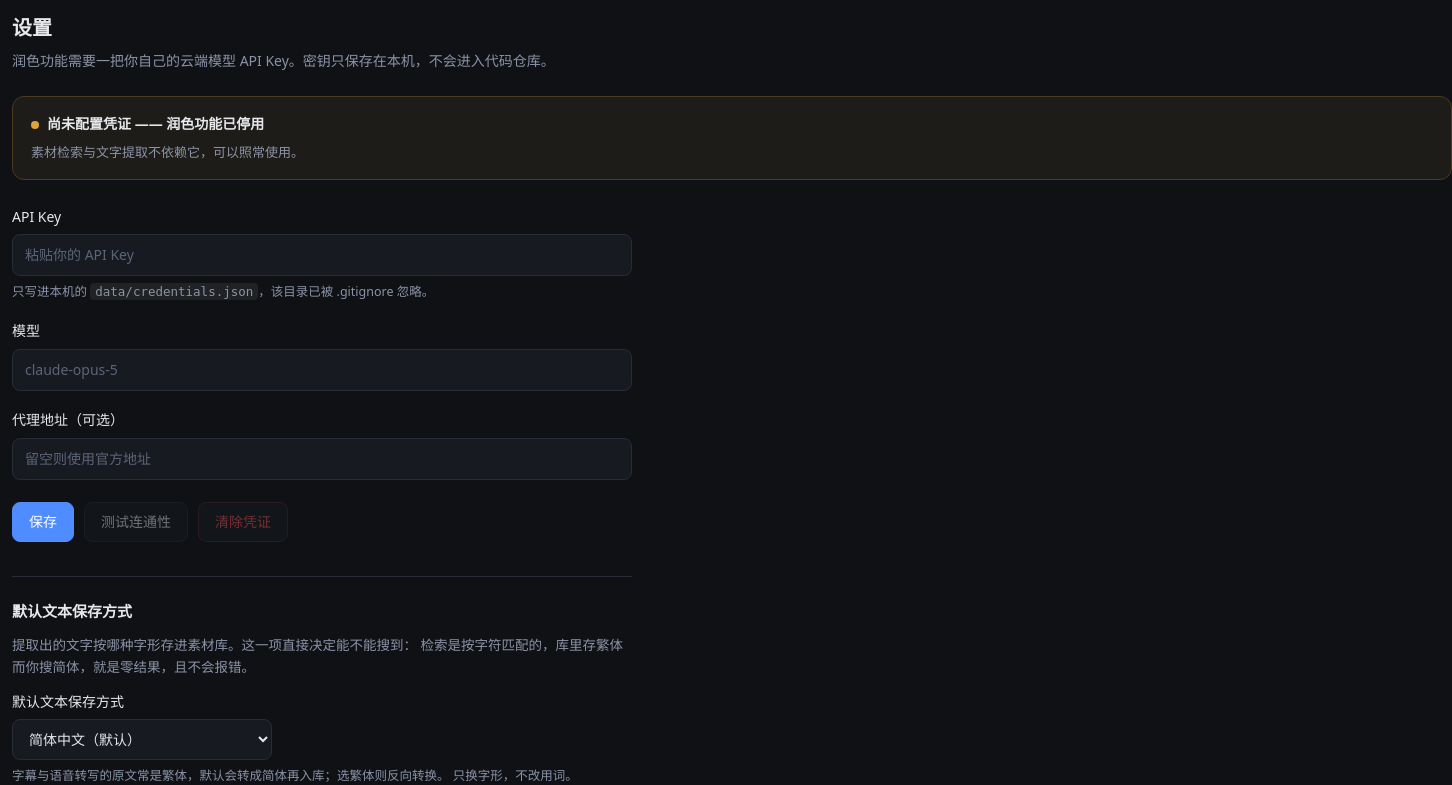
Test: 填写并保存后 › 回显只有末四位，页面上不出现完整密钥
Expected: the text "尚未配置凭证 —— 润色功能已停用" is shown, [31,114,264,133]
In the password field labelled "API Key 只写进本机的 data/credentials.json，该目录已被 .gitignore 忽略。": (322, 255) [12,234,632,276], type "sk-ant-api03-AbCdEfGhIjKlMnOpQrStUvWxYz0123456789"
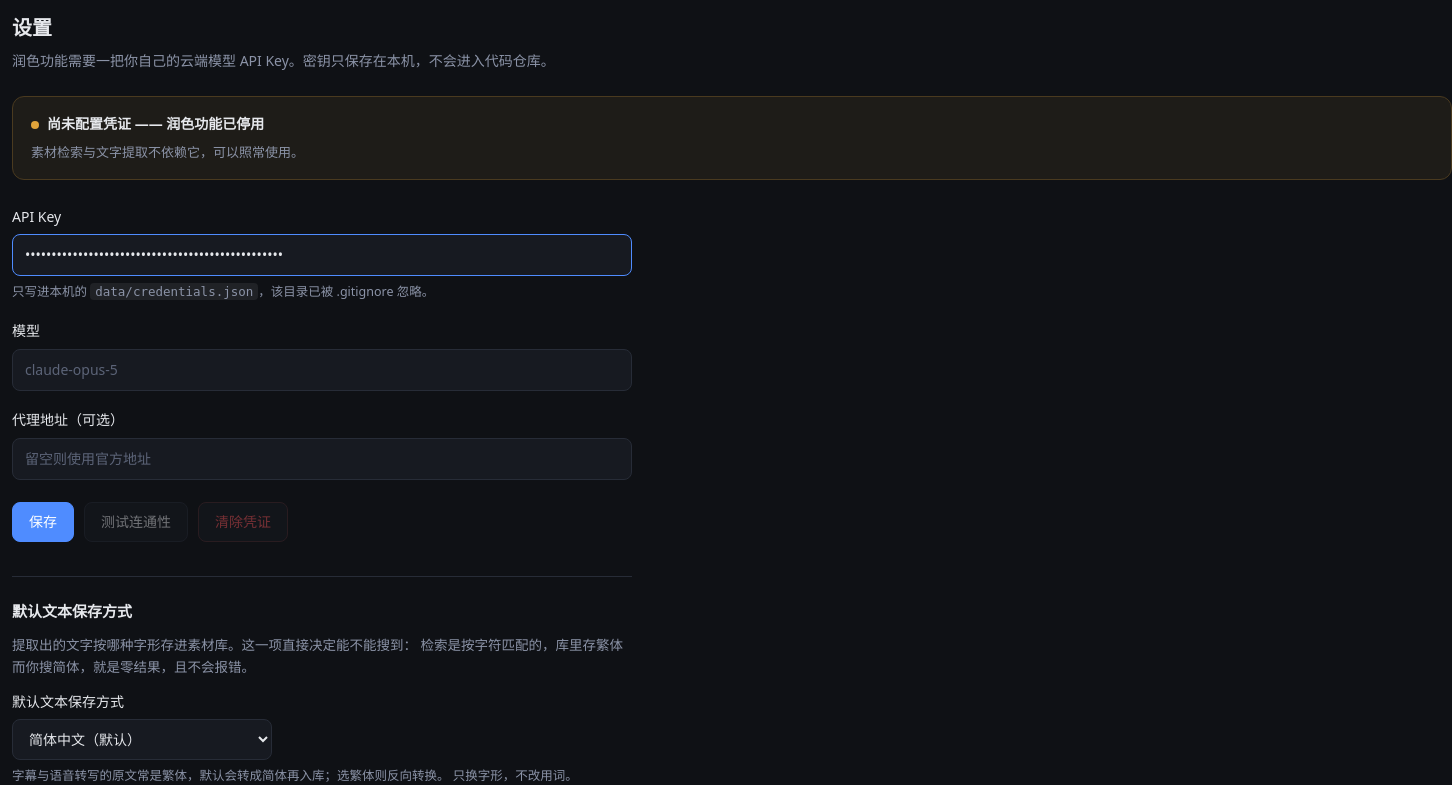
Click the button "保存": (43, 522) [12,502,74,542]
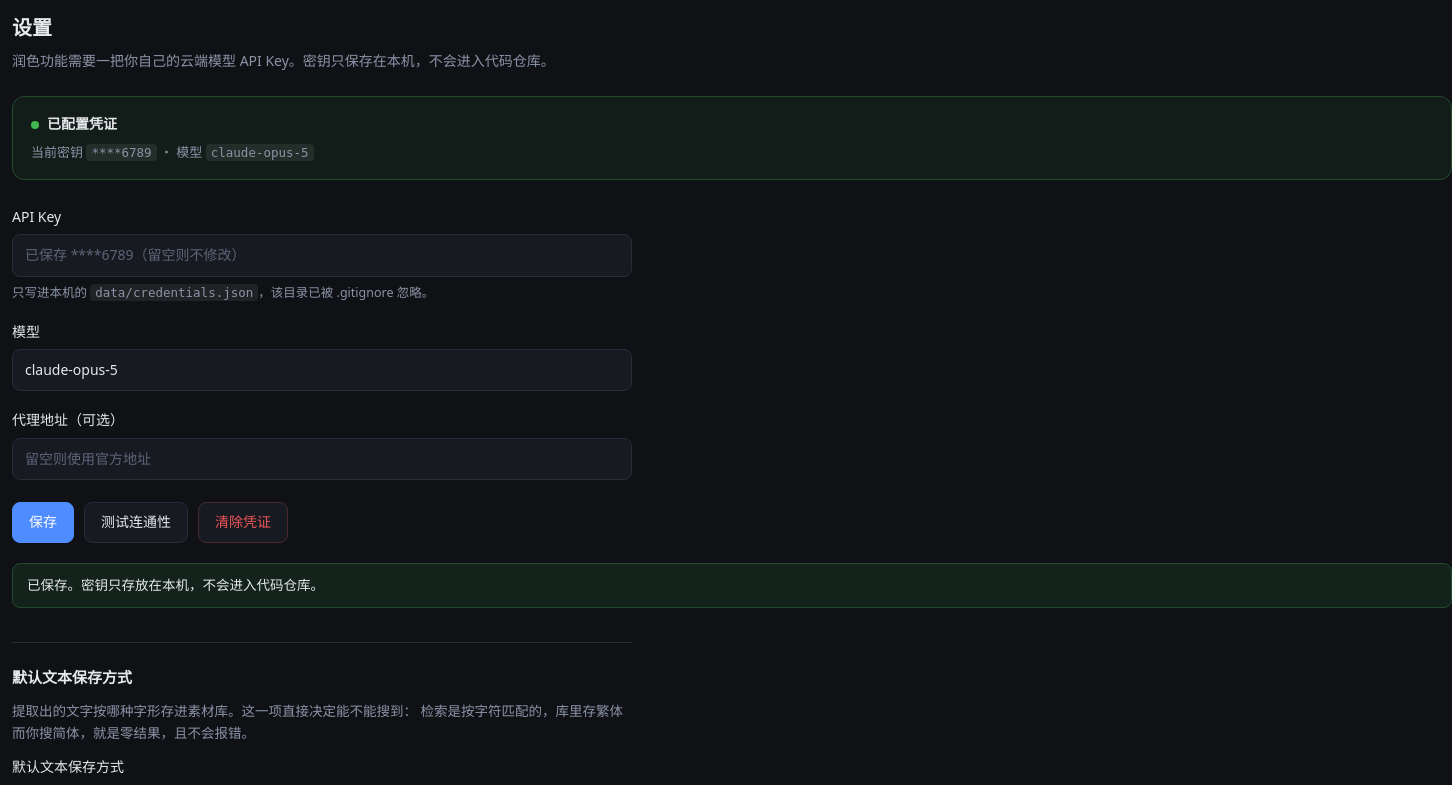
Expected: the text "已配置凭证" is shown, [31,114,117,133]
Expected: the text "****6789" is shown, [86,144,157,161]
